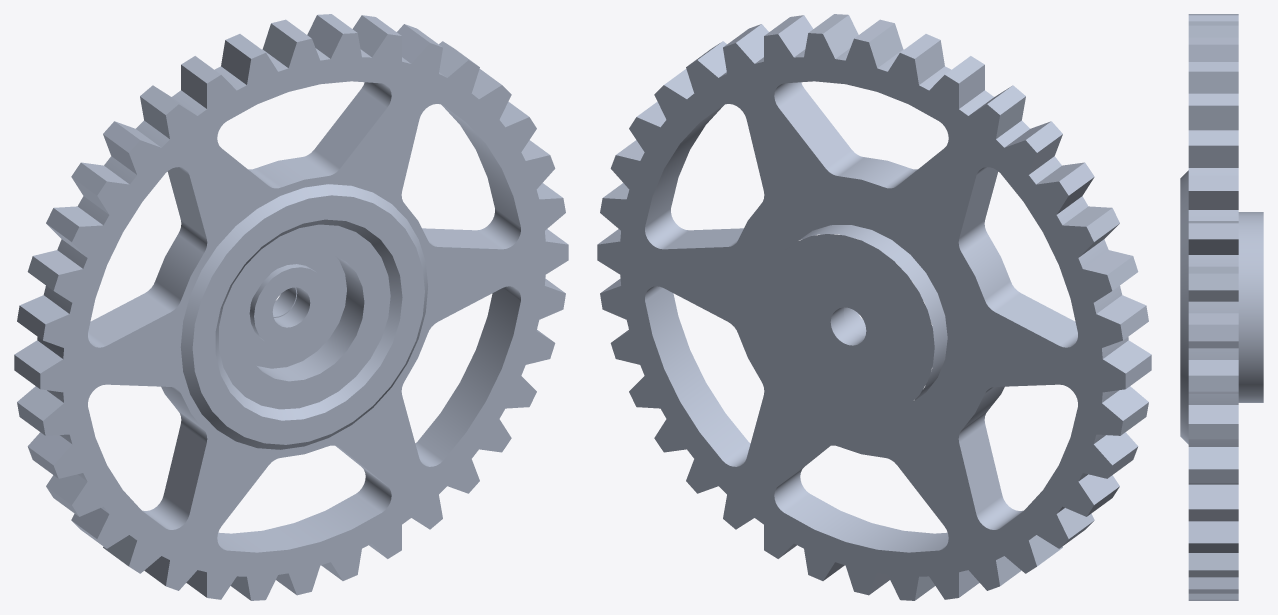
File: CamshaftGear.glb
The picture shows the model from 3 angles, left to right: view 1: azimuth 30°, elevation 25°; view 2: azimuth 150°, elevation 25°; view 3: azimuth 270°, elevation 25°; orthographic projection. The views are drawn at different scales.
Parts seen in each view (by area): view 1: CamshaftGear; view 2: CamshaftGear; view 3: CamshaftGear.
Part boxes in pixels (x1,y1,x2,y2): CamshaftGear: (14,14,568,600); CamshaftGear: (597,14,1151,600); CamshaftGear: (1180,14,1263,600).
Size of the model in its own units: 0.0705 by 0.0705 by 0.01.
